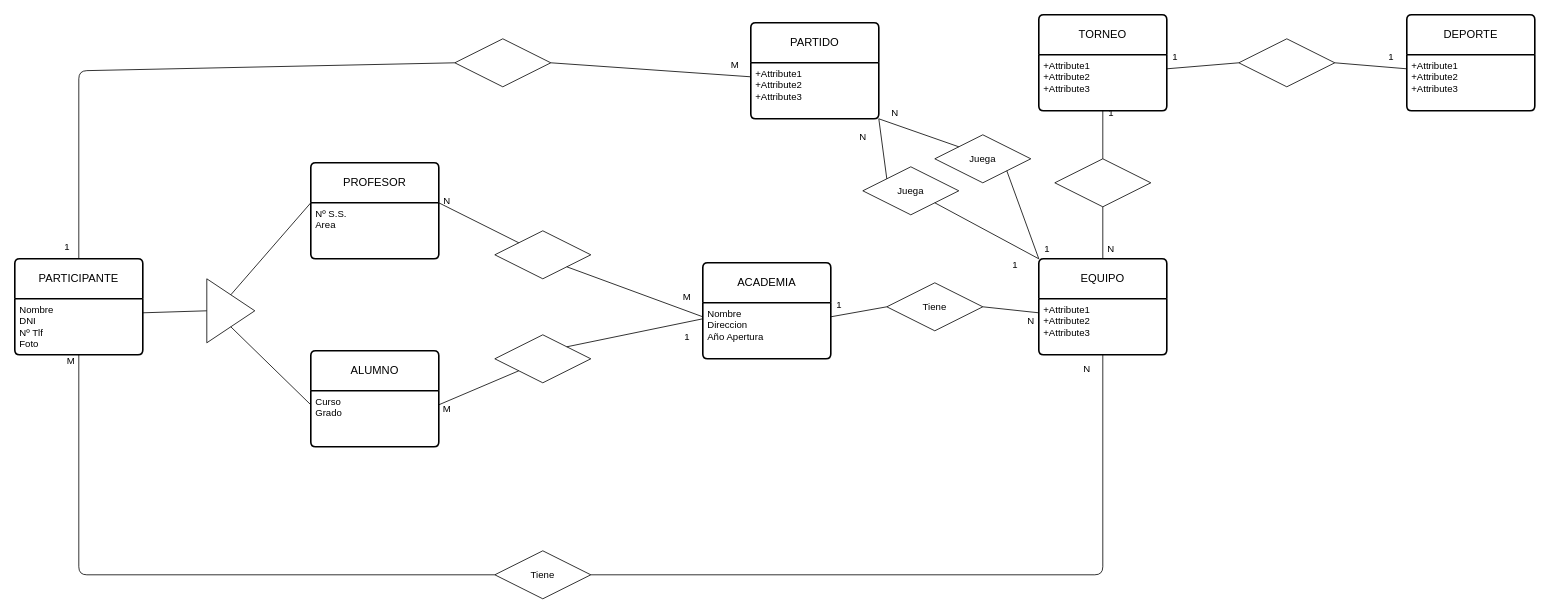
Some shapes in this 1549 by 613 pixel diagram are drawn without their labels. The shapes that lost their labels are listed below. From the top down, each one's centre as x and y in pixels, then its label:
the point at 502,62: Arbitra
the point at 1286,62: Relationship
the point at 1102,182: Participa
the point at 542,254: Trabaja
the point at 230,310: Puede ser
the point at 542,358: Pertenece
